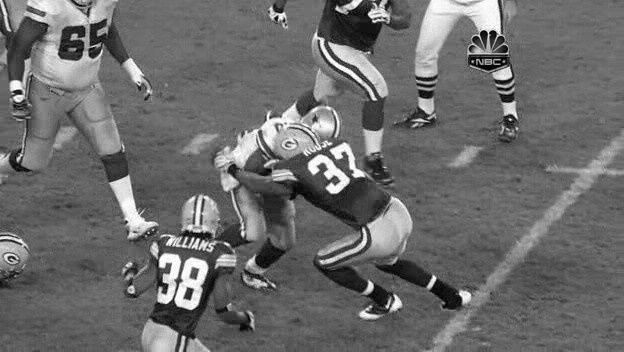person: (300, 106, 336, 152), (299, 106, 335, 152), (301, 106, 337, 152), (300, 105, 336, 151), (300, 107, 336, 153)
target_negative: (197, 46, 524, 293), (202, 58, 596, 219), (220, 183, 558, 324), (396, 101, 531, 266), (614, 290, 624, 303), (567, 326, 583, 333)
